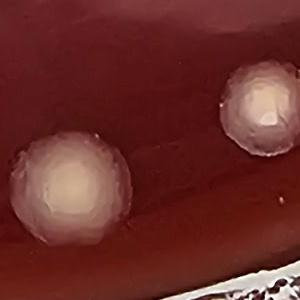colony: (5, 126, 136, 252), (214, 54, 300, 164)
